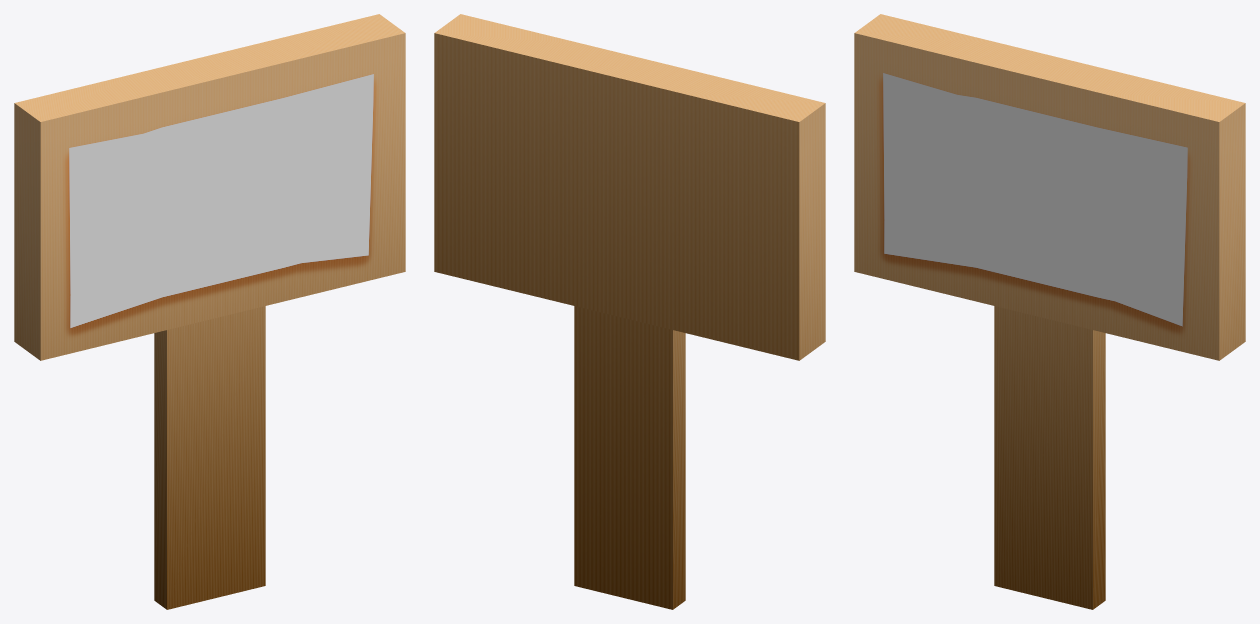
Rendered from hatake_kanban.FBX.
3 views of the same model, side by side, from view 1: azimuth 30°, elevation 25°; view 2: azimuth 150°, elevation 25°; view 3: azimuth 330°, elevation 25° (orthographic).
Visible parts, largest first — view 1: hatake_kanban; view 2: hatake_kanban; view 3: hatake_kanban.
Boxes of the visible parts, x1,y1,x2,y2 form: hatake_kanban: (14,14,405,609); hatake_kanban: (434,14,825,609); hatake_kanban: (854,14,1245,609).
Bounding box in the file's own units: 31.5 × 43.31 × 3.9.
